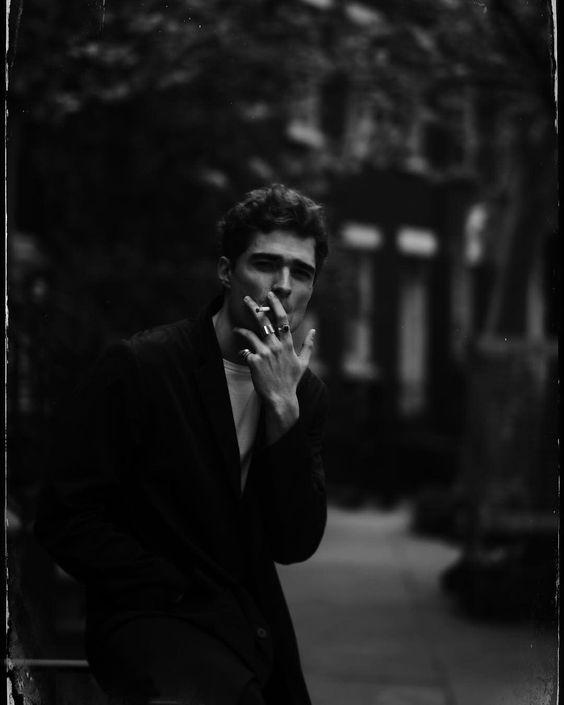cigarette: (255, 307, 271, 313)
